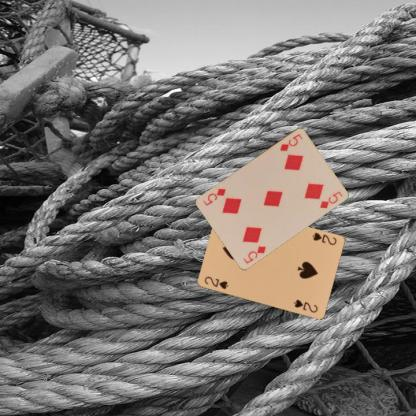2s: (310, 230, 337, 247), (202, 274, 229, 290)
5d: (241, 243, 267, 265), (277, 131, 304, 152)
